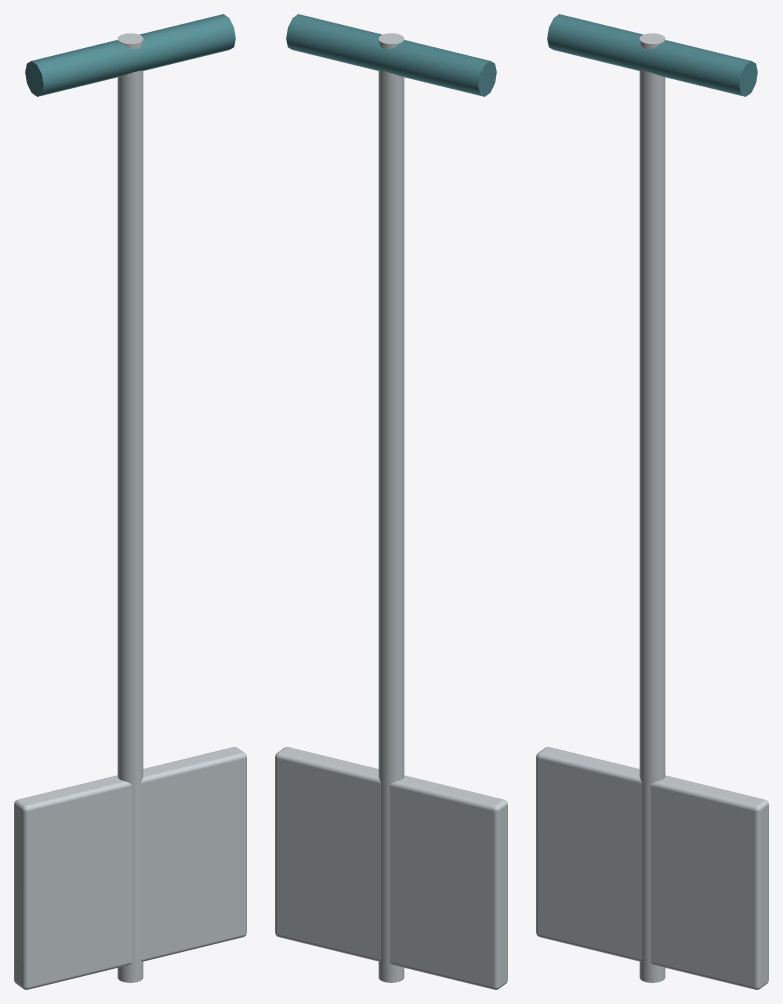
The model's file is cheesemaking-and-dairy-cellar-vat-stirring-paddle-ab1aabc4__30858.glb.
3 renders of one model, left to right at view 1: azimuth 30°, elevation 25°; view 2: azimuth 150°, elevation 25°; view 3: azimuth 330°, elevation 25°, orthographic.
Parts seen in each view (by area): view 1: vat-stirring-paddle; view 2: vat-stirring-paddle; view 3: vat-stirring-paddle.
Part boxes in pixels (x1,y1,x2,y2): vat-stirring-paddle: [14, 14, 246, 989]; vat-stirring-paddle: [275, 14, 507, 989]; vat-stirring-paddle: [536, 14, 768, 989].
Bounding box in the file's own units: 0.28 × 1.12 × 0.04.
